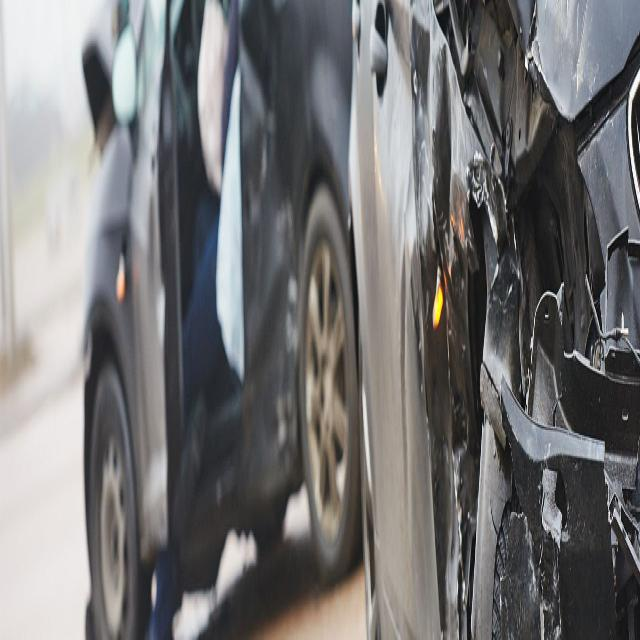crush: (400, 0, 640, 640), (156, 0, 314, 541)
